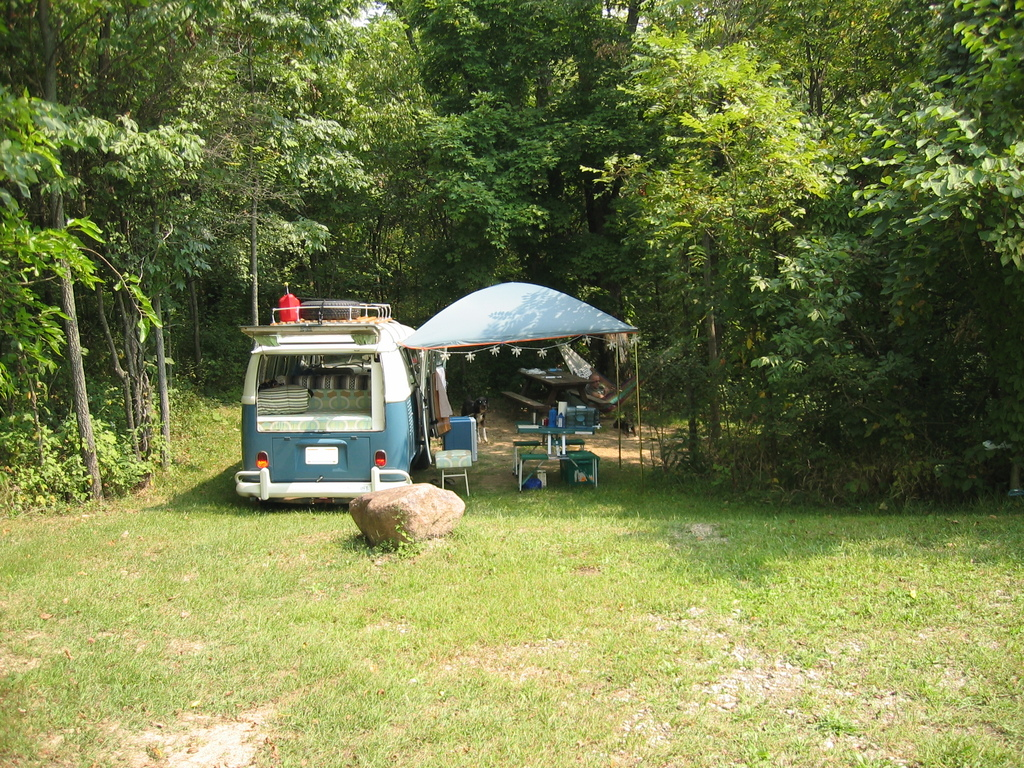Tree: (0, 0, 1024, 503)
